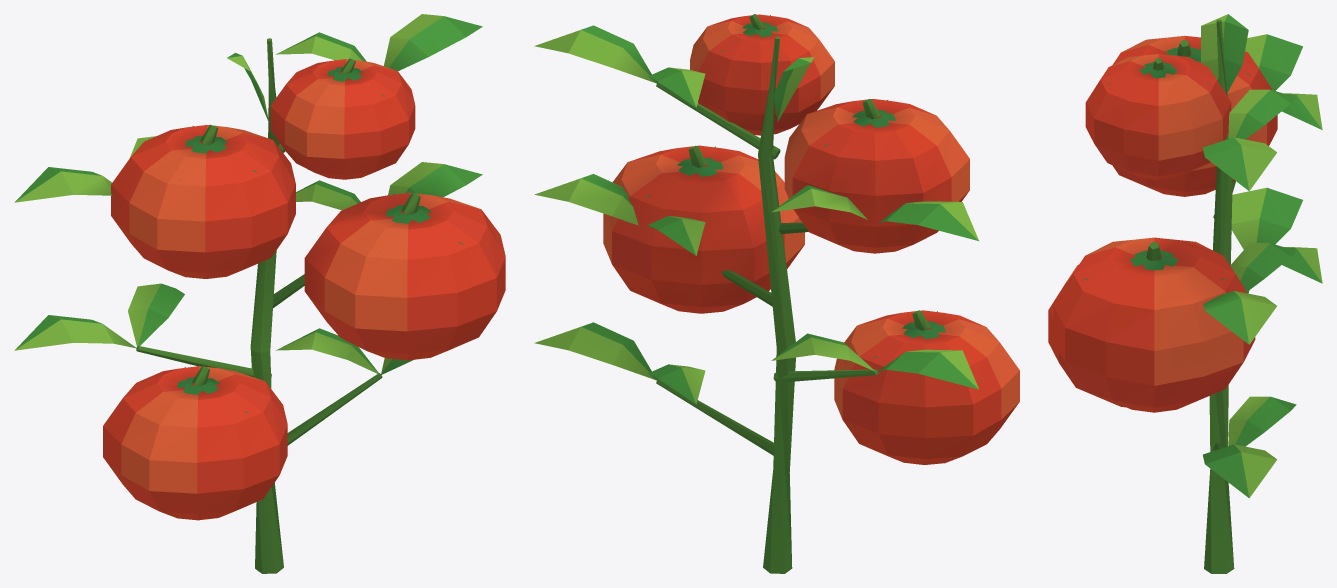
File: Tomato_4.glb
3 renders of one model, left to right at view 1: azimuth 30°, elevation 25°; view 2: azimuth 150°, elevation 25°; view 3: azimuth 270°, elevation 25°, orthographic. The views are drawn at different scales.
Visible parts, largest first — view 1: Tomato_4; view 2: Tomato_4; view 3: Tomato_4.
Boxes of the visible parts, x1,y1,x2,y2 form: Tomato_4: (14, 14, 505, 573); Tomato_4: (534, 14, 1019, 573); Tomato_4: (1048, 14, 1322, 573).
Size of the model in its own units: 1.27 by 1.4 by 0.6349.
